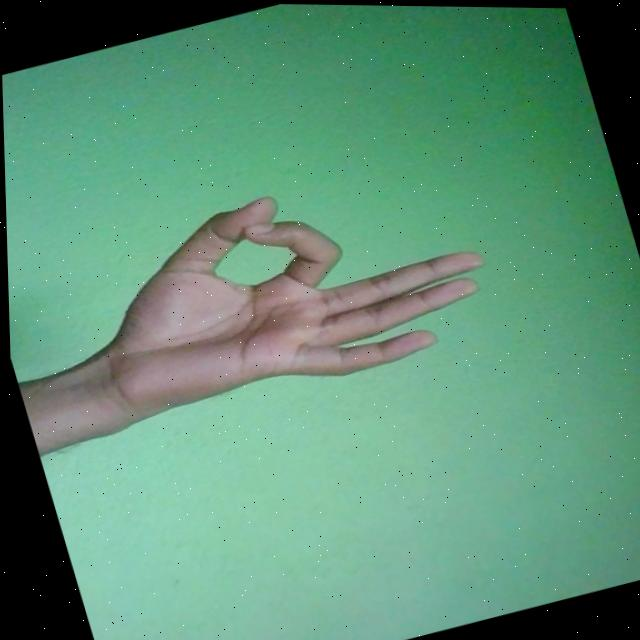Ok: (56, 143, 507, 438)
